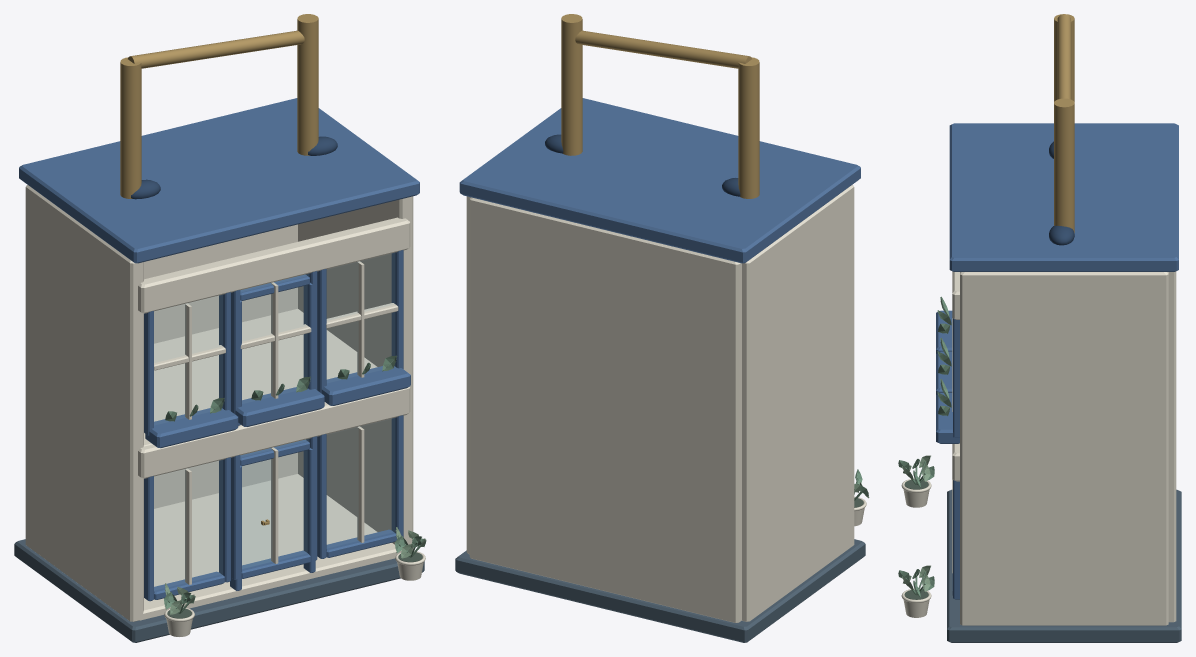
File: v18_special_buildings_music.glb
The picture shows the model from 3 angles, left to right: view 1: azimuth 30°, elevation 25°; view 2: azimuth 150°, elevation 25°; view 3: azimuth 270°, elevation 25°; orthographic projection. The views are drawn at different scales.
Parts seen in each view (by area): view 1: _MeshInstance3D_5939, _MeshInstance3D_6010, _MeshInstance3D_5940, _MeshInstance3D_5942, _MeshInstance3D_5967, _MeshInstance3D_5966, _MeshInstance3D_5941, _MeshInstance3D_5938, _MeshInstance3D_5943, _MeshInstance3D_6011, _MeshInstance3D_6013, _MeshInstance3D_6015 (+29 smaller); view 2: _MeshInstance3D_5941, _MeshInstance3D_5939, _MeshInstance3D_6010, _MeshInstance3D_5938, _MeshInstance3D_6011, _MeshInstance3D_6013, _MeshInstance3D_6015, _MeshInstance3D_5940; view 3: _MeshInstance3D_5940, _MeshInstance3D_6010, _MeshInstance3D_5938, _MeshInstance3D_5941, _MeshInstance3D_6013, _MeshInstance3D_6015, _MeshInstance3D_5955, _MeshInstance3D_5995, _MeshInstance3D_6000, _MeshInstance3D_6011, _MeshInstance3D_5987, _MeshInstance3D_5974 (+1 smaller).
Part boxes in pixels (bbox=[...]): _MeshInstance3D_5939: bbox=[25, 185, 143, 621]; _MeshInstance3D_6010: bbox=[19, 98, 419, 263]; _MeshInstance3D_5940: bbox=[298, 196, 413, 550]; _MeshInstance3D_5942: bbox=[139, 474, 401, 620]; _MeshInstance3D_5967: bbox=[138, 217, 410, 313]; _MeshInstance3D_5966: bbox=[143, 308, 377, 446]; _MeshInstance3D_5941: bbox=[144, 224, 297, 508]; _MeshInstance3D_5938: bbox=[14, 539, 424, 642]; _MeshInstance3D_5943: bbox=[138, 386, 410, 478]; _MeshInstance3D_6011: bbox=[120, 57, 141, 198]; _MeshInstance3D_6013: bbox=[297, 14, 318, 155]; _MeshInstance3D_6015: bbox=[128, 30, 304, 68]; _MeshInstance3D_5941: bbox=[469, 197, 741, 622]; _MeshInstance3D_5939: bbox=[742, 185, 854, 621]; _MeshInstance3D_6010: bbox=[459, 98, 860, 263]; _MeshInstance3D_5938: bbox=[455, 539, 865, 642]; _MeshInstance3D_6011: bbox=[738, 57, 759, 198]; _MeshInstance3D_6013: bbox=[561, 14, 582, 155]; _MeshInstance3D_6015: bbox=[575, 30, 751, 68]; _MeshInstance3D_5940: bbox=[466, 196, 470, 554]; _MeshInstance3D_5940: bbox=[960, 272, 1168, 625]; _MeshInstance3D_6010: bbox=[949, 123, 1178, 271]; _MeshInstance3D_5938: bbox=[947, 489, 1181, 642]; _MeshInstance3D_5941: bbox=[1168, 271, 1176, 622]; _MeshInstance3D_6013: bbox=[1054, 98, 1074, 232]; _MeshInstance3D_6015: bbox=[1057, 14, 1071, 99]; _MeshInstance3D_5955: bbox=[953, 480, 959, 599]; _MeshInstance3D_5995: bbox=[953, 318, 959, 437]; _MeshInstance3D_6000: bbox=[936, 393, 959, 443]; _MeshInstance3D_6011: bbox=[1054, 14, 1074, 101]; _MeshInstance3D_5987: bbox=[936, 351, 952, 394]; _MeshInstance3D_5974: bbox=[936, 310, 952, 353].
Size of the model in its own units: 4.62 by 8 by 3.96.
